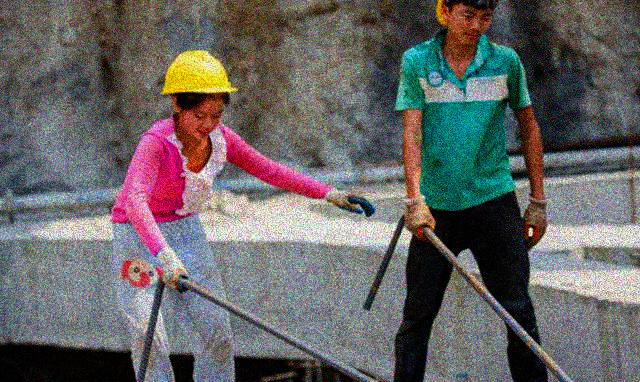helmet: (158, 50, 239, 139), (436, 1, 498, 44)
